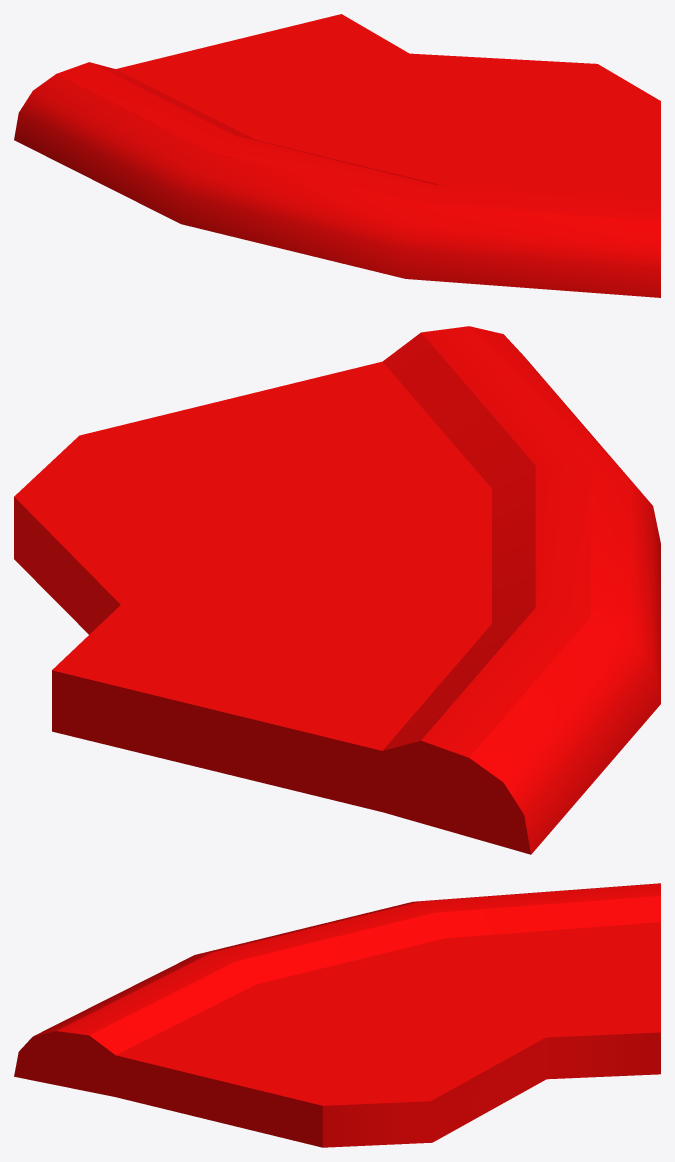
File: umgebung_pizza_abgebissen_low.FBX
3 renders of one model, top to bottom at view 1: azimuth 30°, elevation 25°; view 2: azimuth 150°, elevation 25°; view 3: azimuth 270°, elevation 25°, orthographic. The views are drawn at different scales.
Visible parts, largest first — view 1: o_pizza_stueck_abgebissen_low; view 2: o_pizza_stueck_abgebissen_low; view 3: o_pizza_stueck_abgebissen_low.
Part boxes in pixels (x1,y1,x2,y2): o_pizza_stueck_abgebissen_low: (14, 14, 660, 297); o_pizza_stueck_abgebissen_low: (14, 326, 660, 854); o_pizza_stueck_abgebissen_low: (14, 883, 660, 1147).
Size of the model in its own units: 18.11 by 21.24 by 2.16.
